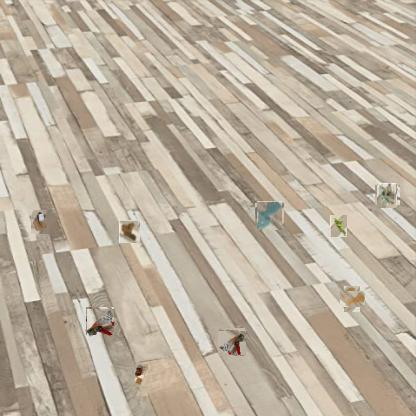dirty: (86, 308, 114, 336), (219, 328, 246, 356), (376, 184, 399, 207), (132, 364, 148, 396), (32, 210, 52, 235), (118, 221, 139, 242), (330, 215, 347, 237)
liquid: (256, 202, 283, 230), (342, 288, 363, 310)
